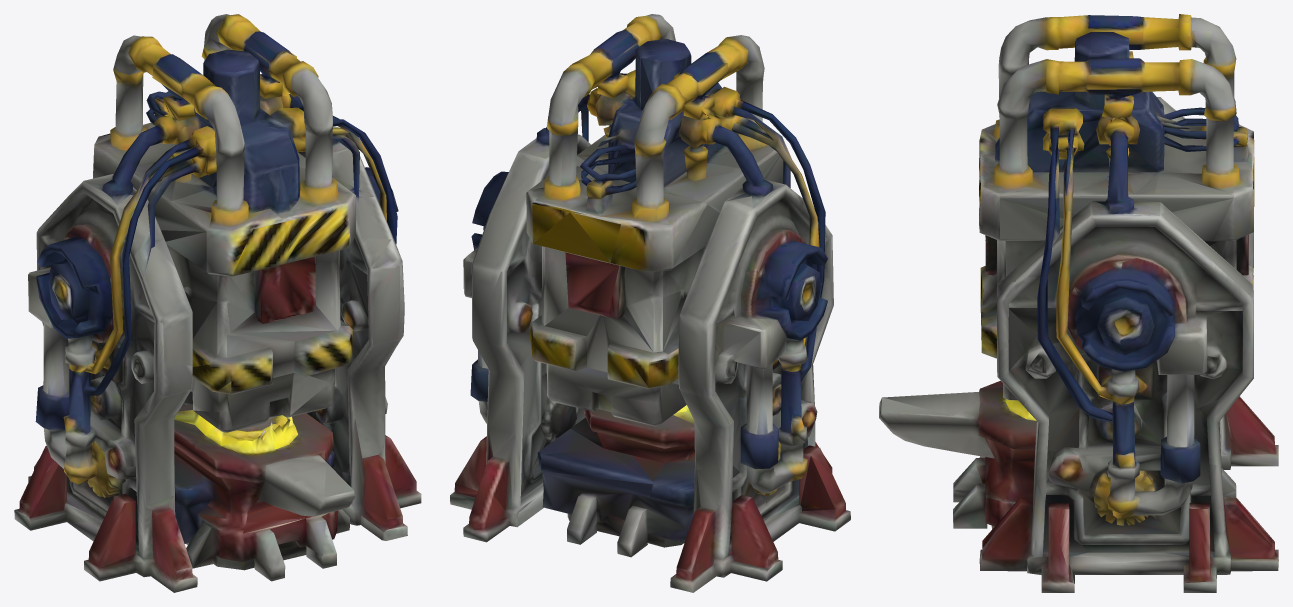
The model's file is prop_forge_press.glb.
3 views of the same model, side by side, from view 1: azimuth 30°, elevation 25°; view 2: azimuth 150°, elevation 25°; view 3: azimuth 270°, elevation 25° (orthographic). The views are drawn at different scales.
Parts seen in each view (by area): view 1: tripo_node_450fa045-5878-4f3a-b8e7-6e090ffcdbbf; view 2: tripo_node_450fa045-5878-4f3a-b8e7-6e090ffcdbbf; view 3: tripo_node_450fa045-5878-4f3a-b8e7-6e090ffcdbbf.
Boxes of the visible parts, box(x1,y1,x2,y2) form: tripo_node_450fa045-5878-4f3a-b8e7-6e090ffcdbbf: box(14, 14, 421, 592); tripo_node_450fa045-5878-4f3a-b8e7-6e090ffcdbbf: box(450, 14, 850, 592); tripo_node_450fa045-5878-4f3a-b8e7-6e090ffcdbbf: box(879, 14, 1278, 592).
Size of the model in its own units: 0.709 by 0.9784 by 0.7452.
Materials: 1 (1 with a texture image).
